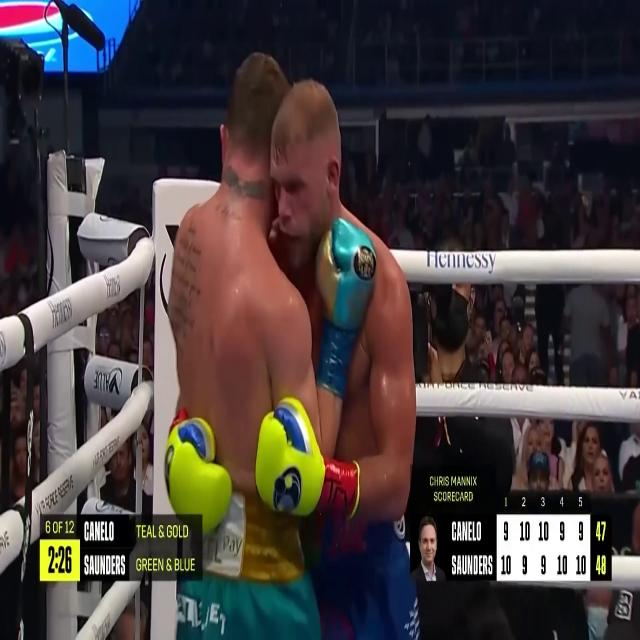boxer_1: (270, 81, 398, 460)
boxer_2: (170, 54, 289, 489)
gloves_1: (255, 397, 360, 517), (164, 409, 232, 535)
gloves_2: (316, 218, 377, 402)
